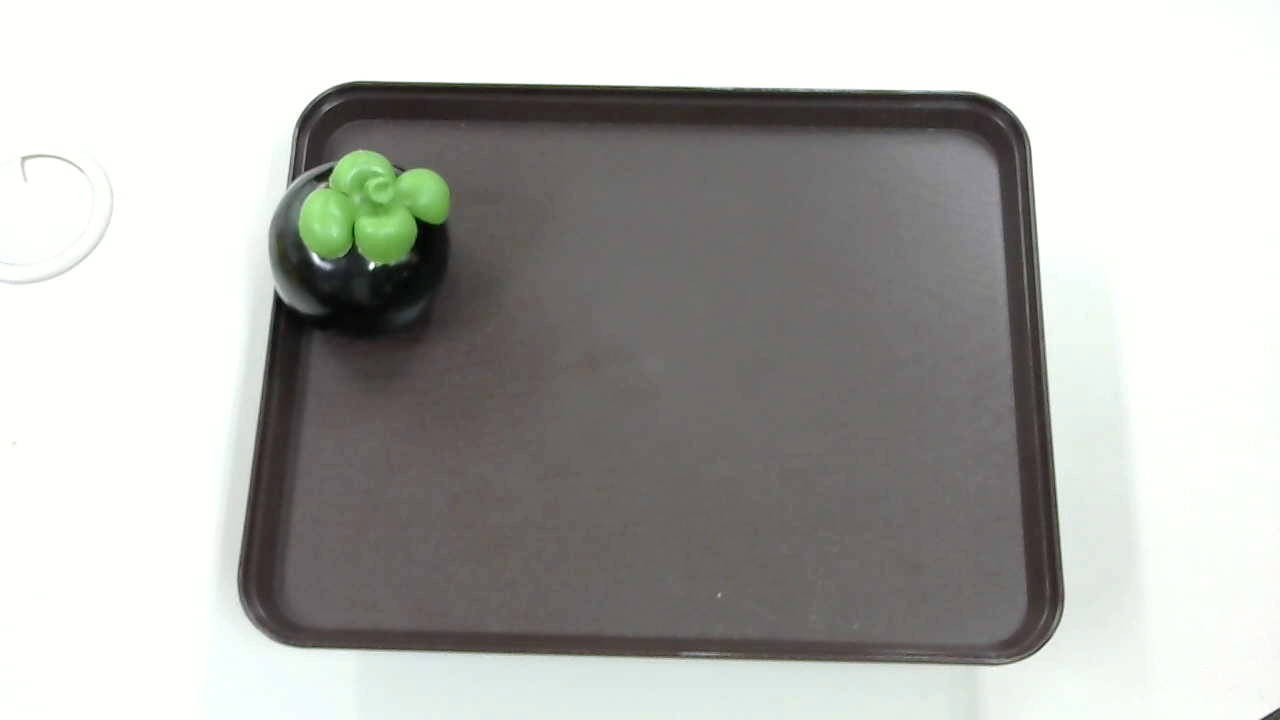mangosteen: (262, 151, 457, 347)
